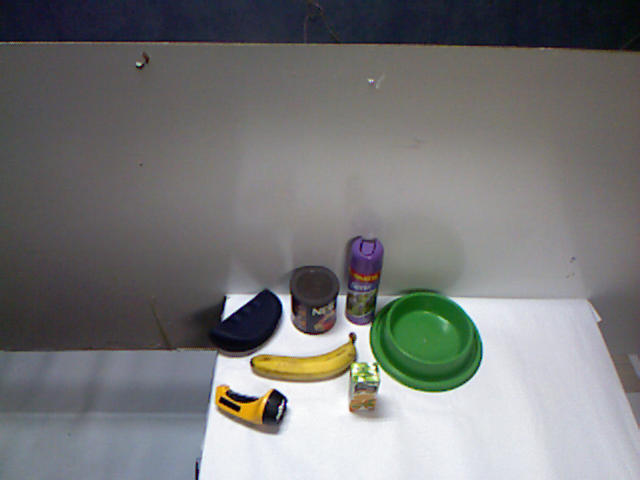cera: (325, 222, 384, 339)
limon: (404, 364, 460, 416)
mantequilla: (377, 318, 432, 354)
pescado: (326, 339, 388, 431)
platoperro: (223, 303, 338, 404)
yogurt: (432, 243, 498, 359)
